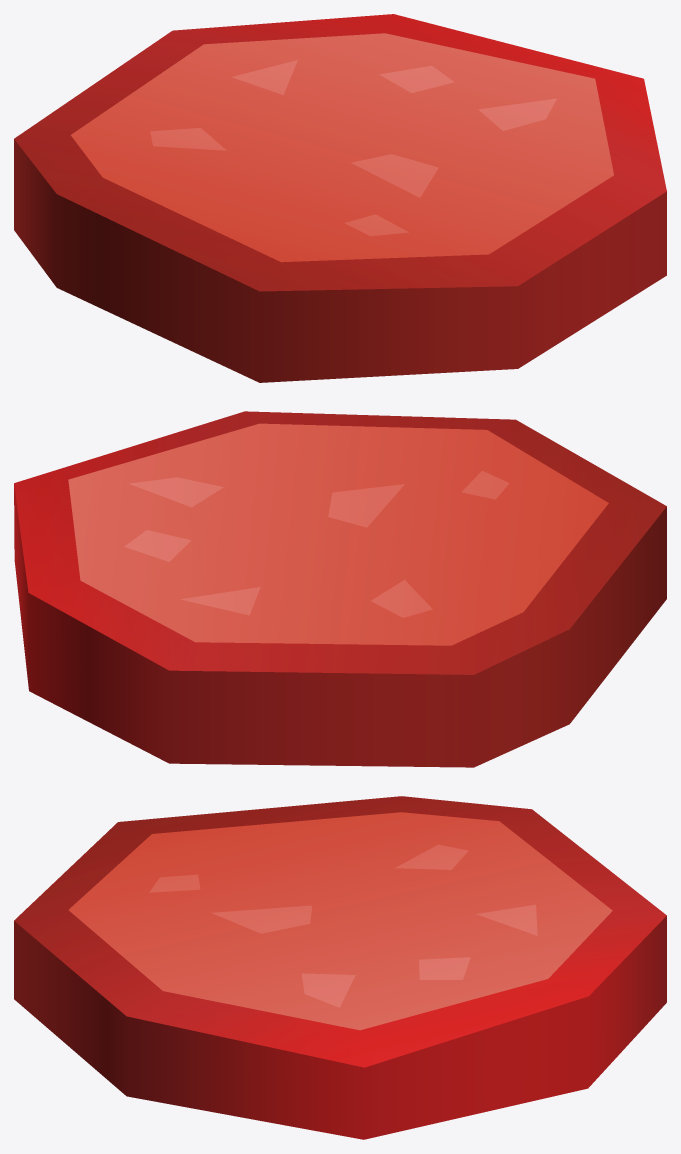
The model's file is SausageSlice_A.glb.
3 renders of one model, top to bottom at view 1: azimuth 30°, elevation 25°; view 2: azimuth 150°, elevation 25°; view 3: azimuth 270°, elevation 25°, orthographic. The views are drawn at different scales.
Parts seen in each view (by area): view 1: SausageSlice_A; view 2: SausageSlice_A; view 3: SausageSlice_A.
Part boxes in pixels (box(x1,y1,x2,y2)): SausageSlice_A: box(14, 14, 666, 382); SausageSlice_A: box(14, 411, 666, 767); SausageSlice_A: box(14, 796, 666, 1139).
Size of the model in its own units: 0.0868 by 0.0158 by 0.091.
1 material, 1 textured.
